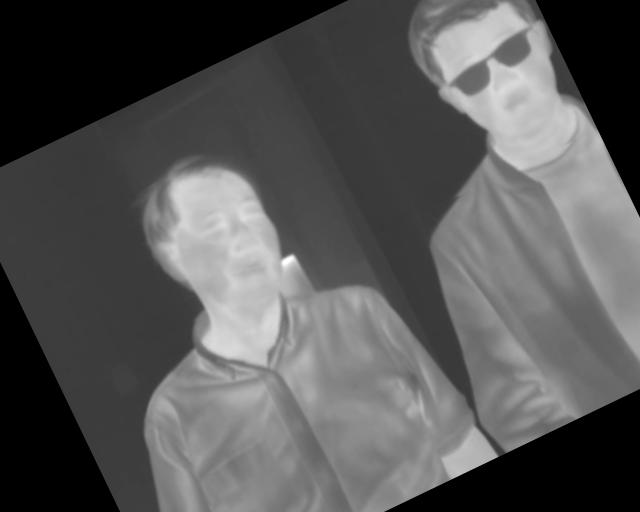face: (119, 132, 308, 342), (387, 1, 586, 167)
